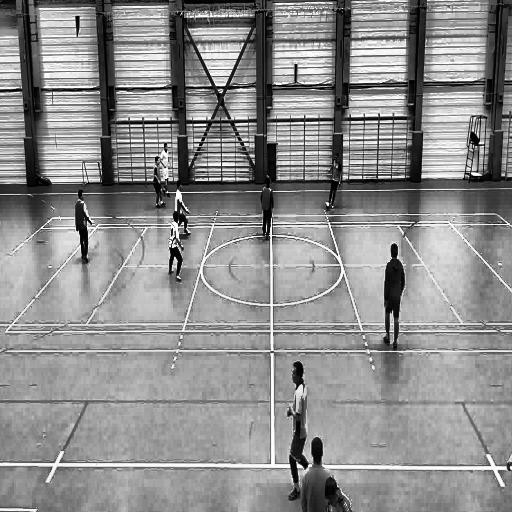ball: (325, 200, 332, 212)
player: (286, 358, 310, 504), (382, 243, 406, 356), (75, 186, 93, 266), (174, 180, 192, 242), (169, 211, 184, 283), (260, 172, 274, 243), (327, 151, 342, 210), (152, 157, 167, 210), (505, 402, 512, 512), (159, 142, 172, 198)
